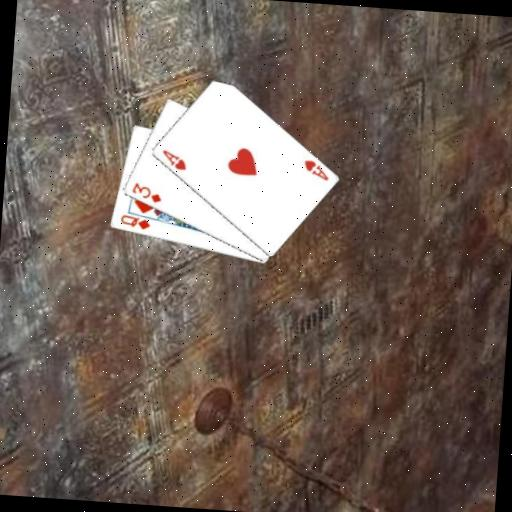3D: (128, 180, 164, 205)
AH: (300, 157, 332, 183), (158, 147, 189, 172)
QD: (117, 212, 152, 233)
